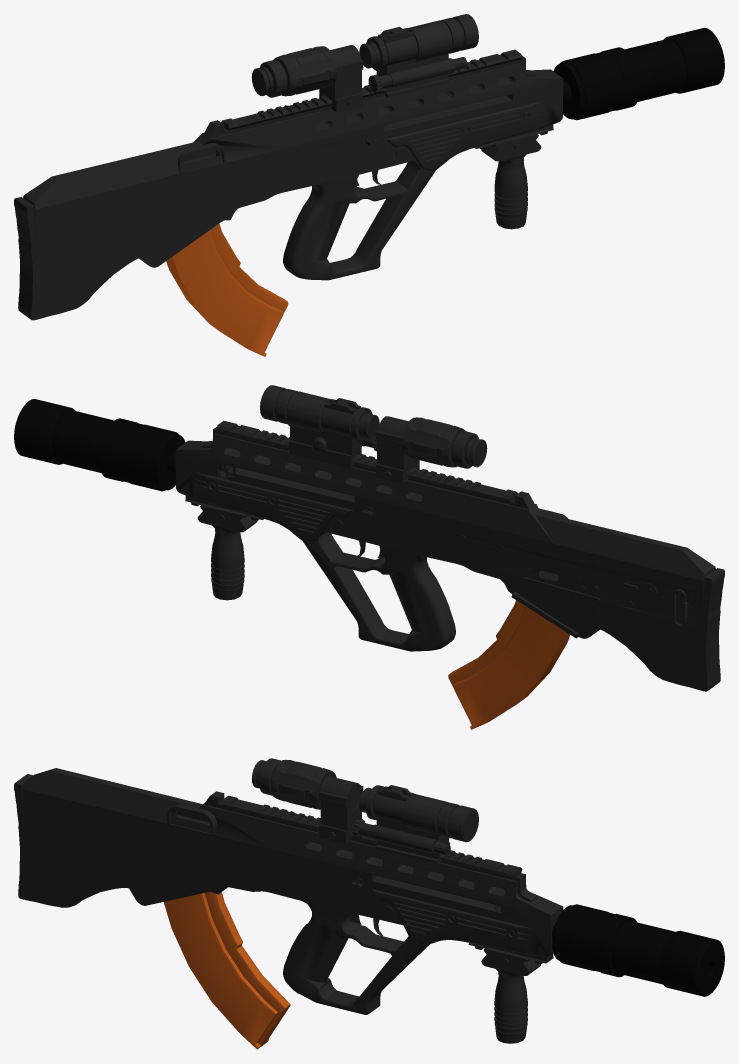
The model's file is vulkan.fbx.
3 views of the same model, one above another, from view 1: azimuth 30°, elevation 25°; view 2: azimuth 150°, elevation 25°; view 3: azimuth 330°, elevation 25° (orthographic).
Parts seen in each view (by area): view 1: gun, Cylinder, magazine; view 2: gun, Cylinder, magazine; view 3: gun, Cylinder, magazine.
Part boxes in pixels (x1,y1,x2,y2): gun: (14, 14, 563, 320); Cylinder: (553, 27, 724, 120); magazine: (166, 223, 288, 356); gun: (175, 385, 724, 691); Cylinder: (14, 399, 185, 491); magazine: (448, 600, 569, 729); gun: (14, 758, 563, 1043); Cylinder: (552, 904, 724, 996); magazine: (163, 892, 290, 1049).
Size of the model in its own units: 0.7766 by 0.0598 by 0.3118.
Materials: 3 (3 with a texture image).
